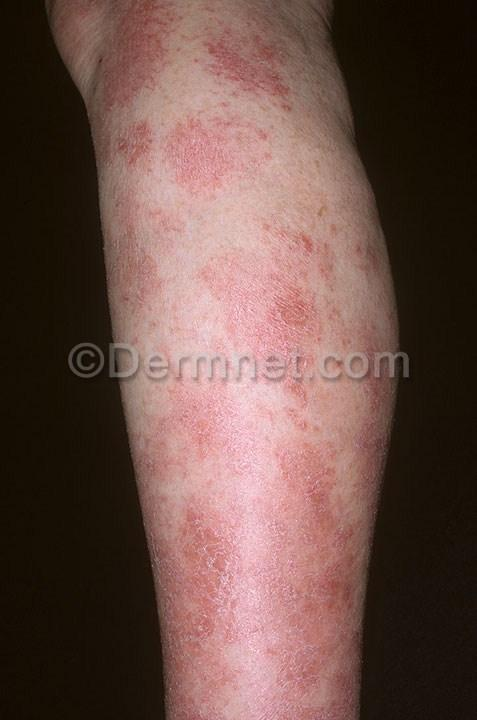Eczema: (122, 377, 391, 720), (215, 229, 406, 351), (93, 117, 291, 223), (46, 0, 190, 115), (205, 10, 339, 120), (71, 222, 188, 311)
